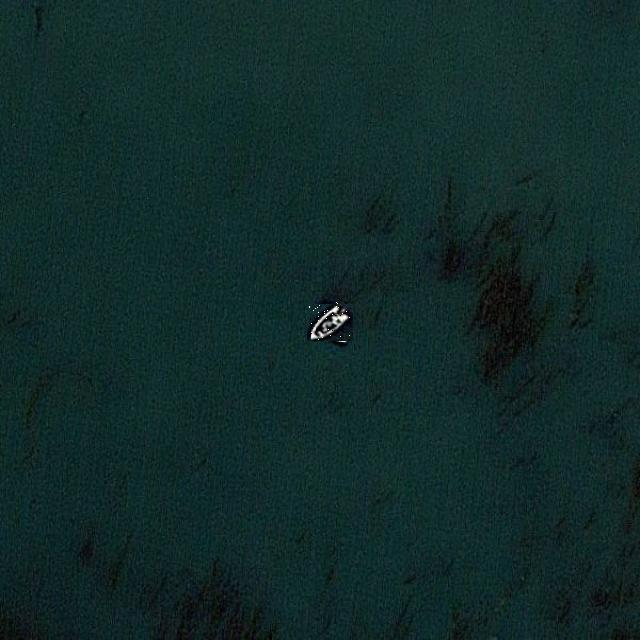boat: (309, 302, 350, 343)
